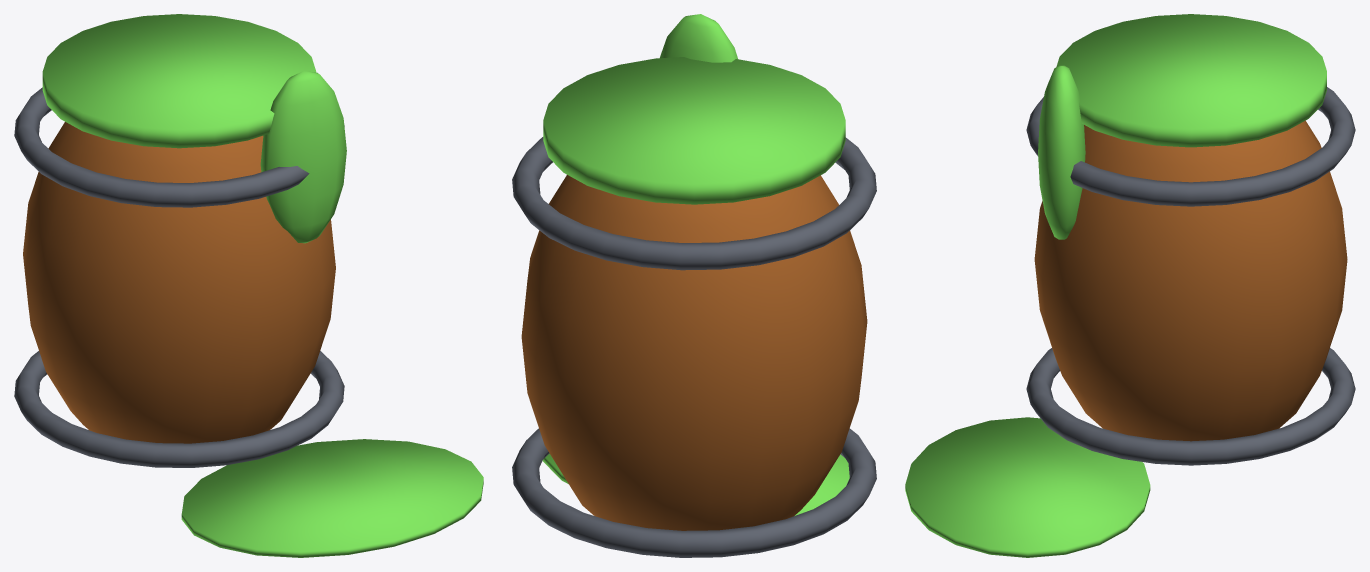
File: P_SlopBarrel.fbx
The picture shows the model from 3 angles, left to right: view 1: azimuth 30°, elevation 25°; view 2: azimuth 150°, elevation 25°; view 3: azimuth 270°, elevation 25°; orthographic projection. The views are drawn at different scales.
Parts seen in each view (by area): view 1: P_SlopBarrel__Wood, P_SlopBarrel__Slop, P_SlopBarrel__Band; view 2: P_SlopBarrel__Wood, P_SlopBarrel__Slop, P_SlopBarrel__Band; view 3: P_SlopBarrel__Wood, P_SlopBarrel__Slop, P_SlopBarrel__Band.
Part boxes in pixels (x1,y1,x2,y2): P_SlopBarrel__Wood: (23, 122, 335, 443); P_SlopBarrel__Slop: (42, 14, 483, 557); P_SlopBarrel__Band: (14, 87, 344, 467); P_SlopBarrel__Wood: (521, 175, 867, 530); P_SlopBarrel__Slop: (542, 14, 849, 515); P_SlopBarrel__Band: (512, 137, 876, 557); P_SlopBarrel__Wood: (1034, 120, 1347, 441); P_SlopBarrel__Slop: (905, 14, 1326, 557); P_SlopBarrel__Band: (1026, 87, 1355, 465).
Size of the model in its own units: 2.98 by 3.4 by 3.31.
